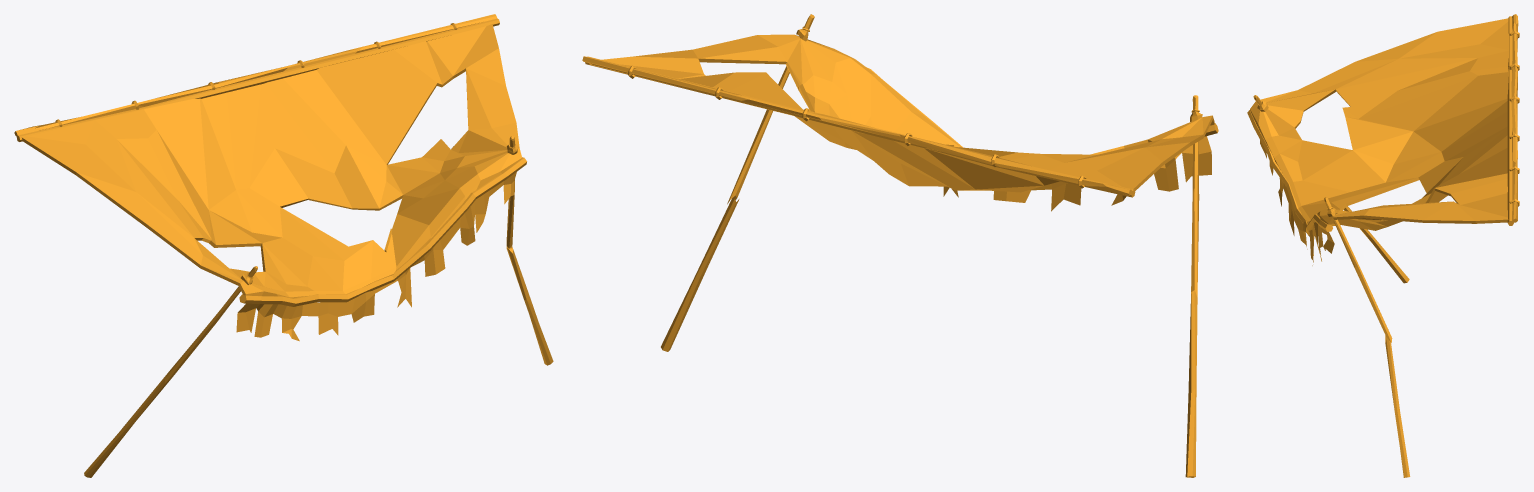
The model's file is SM_Tent_Porch_Wide_Striped_Destroyed_Fantasy.fbx.
3 views of the same model, side by side, from view 1: azimuth 30°, elevation 25°; view 2: azimuth 150°, elevation 25°; view 3: azimuth 270°, elevation 25° (orthographic). The views are drawn at different scales.
Visible parts, largest first — view 1: tent-porch-wide-striped-destroyed-fantasy; view 2: tent-porch-wide-striped-destroyed-fantasy; view 3: tent-porch-wide-striped-destroyed-fantasy.
Part boxes in pixels (x1,y1,x2,y2): tent-porch-wide-striped-destroyed-fantasy: (14,14,553,477); tent-porch-wide-striped-destroyed-fantasy: (582,14,1218,477); tent-porch-wide-striped-destroyed-fantasy: (1247,14,1519,477).
Size of the model in its own units: 4.72 by 2.86 by 2.66.
